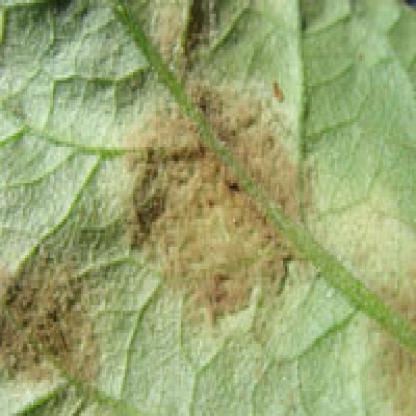Tomato mold leaf: (2, 8, 414, 414)
